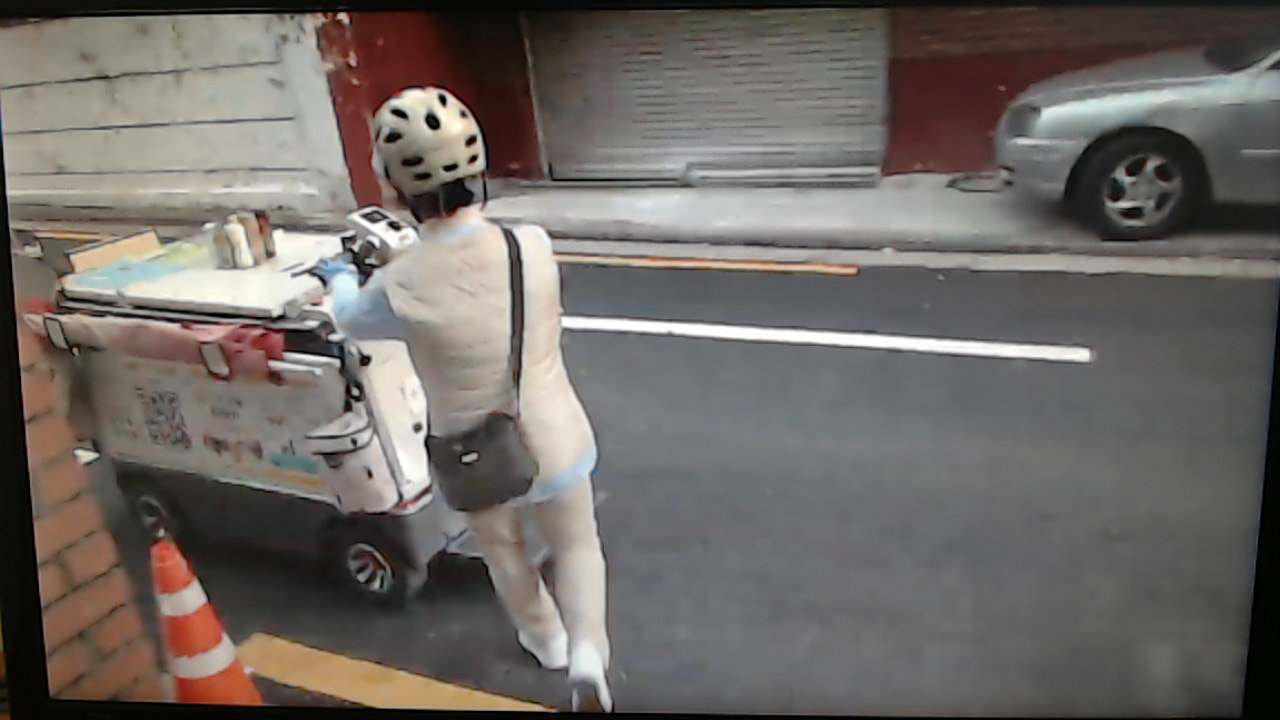Yakurut: (316, 80, 682, 715)
